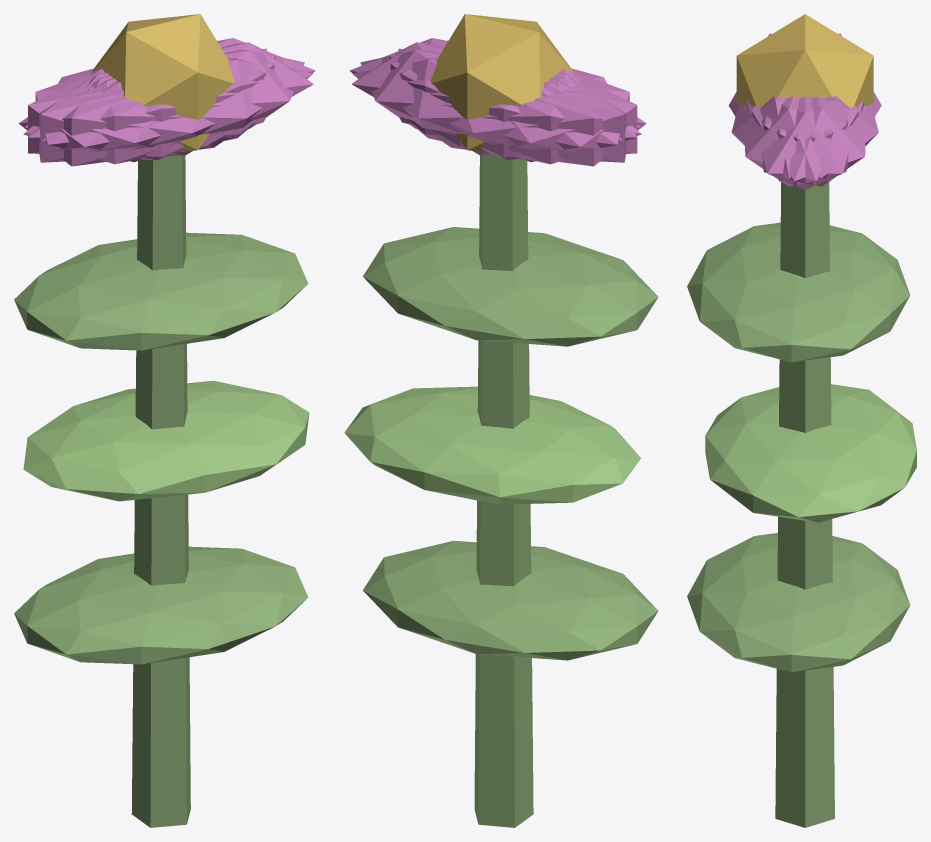
File: anthurium-andraeanum.glb
3 renders of one model, left to right at view 1: azimuth 30°, elevation 25°; view 2: azimuth 150°, elevation 25°; view 3: azimuth 270°, elevation 25°, orthographic.
Visible parts, largest first — view 1: leaf2, leaf0, stem, leaf1, center, petal1, petal6, petal2, petal5, petal7, petal0, petal4 (+2 smaller); view 2: stem, leaf2, leaf1, leaf0, center, petal8, petal3, petal7, petal4, petal2, petal0, petal5 (+2 smaller); view 3: leaf2, leaf1, leaf0, stem, center, petal0, petal4, petal5, petal8, petal1.
Part boxes in pixels (box(x1,y1,x2,y2)): leaf2: box(14, 232, 308, 350); leaf0: box(14, 546, 308, 664); stem: box(131, 155, 190, 827); leaf1: box(23, 380, 309, 501); center: box(92, 14, 234, 152); petal1: box(23, 58, 312, 164); petal6: box(19, 71, 228, 166); petal2: box(39, 48, 266, 162); petal5: box(43, 49, 304, 156); petal7: box(28, 55, 275, 160); petal0: box(91, 42, 313, 146); petal4: box(25, 38, 315, 137); stem: box(474, 155, 533, 827); leaf2: box(363, 227, 658, 346); leaf1: box(344, 386, 640, 504); leaf0: box(363, 540, 658, 660); center: box(430, 14, 573, 152); petal8: box(352, 58, 641, 164); petal3: box(437, 71, 646, 166); petal7: box(398, 48, 626, 162); petal4: box(360, 49, 622, 156); petal2: box(390, 55, 637, 160); petal0: box(351, 42, 573, 146); petal5: box(349, 38, 640, 137); leaf2: box(687, 222, 910, 362); leaf1: box(705, 384, 916, 522); leaf0: box(687, 533, 910, 672); stem: box(775, 181, 834, 827); center: box(736, 14, 873, 107); petal0: box(746, 96, 863, 189); petal4: box(751, 96, 865, 186); petal5: box(744, 96, 858, 186); petal8: box(762, 96, 878, 178); petal1: box(731, 96, 848, 178).
Bounding box in the file's own units: 0.1452 × 0.3858 × 0.1027.
